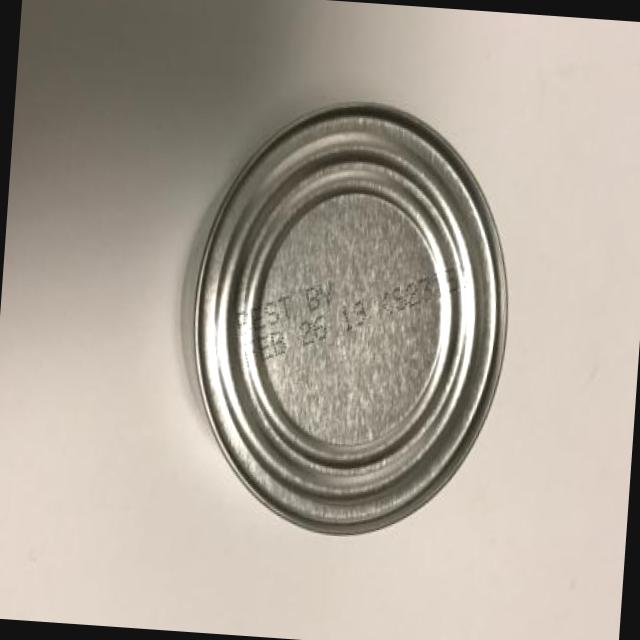kim_loai: (191, 105, 507, 535)
